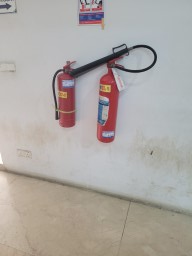fire_extinguisher: (33, 46, 106, 186)
